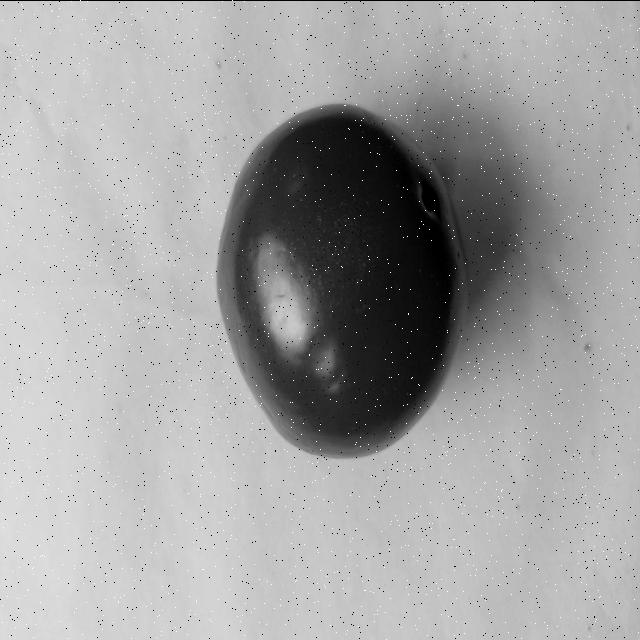Ripe: (212, 96, 470, 467)
